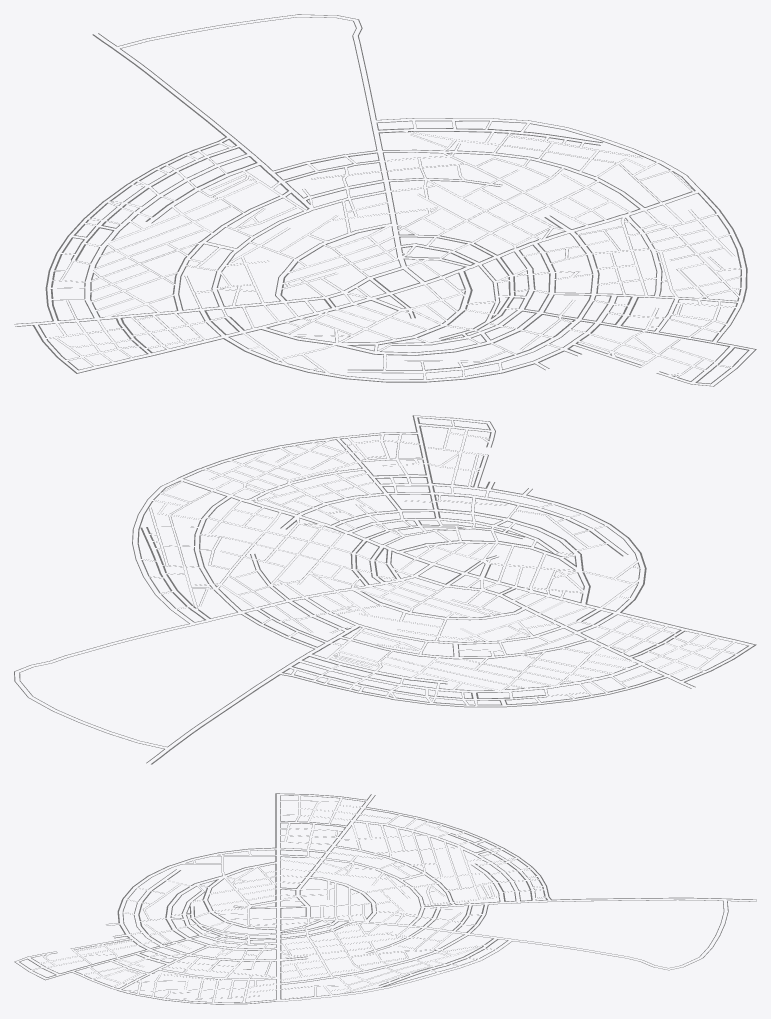
The model's file is city_3d_model_16.glb.
The picture shows the model from 3 angles, top to bottom: view 1: azimuth 30°, elevation 25°; view 2: azimuth 150°, elevation 25°; view 3: azimuth 270°, elevation 25°; orthographic projection. The views are drawn at different scales.
Parts seen in each view (by area): view 1: Object_316; view 2: Object_316; view 3: Object_316.
Part boxes in pixels (x1,y1,x2,y2): Object_316: (14,14,756,386); Object_316: (14,415,756,764); Object_316: (14,793,756,1004).
Bounding box in the file's own units: 772 × 42.53 × 1052.
1 material, 1 textured.
